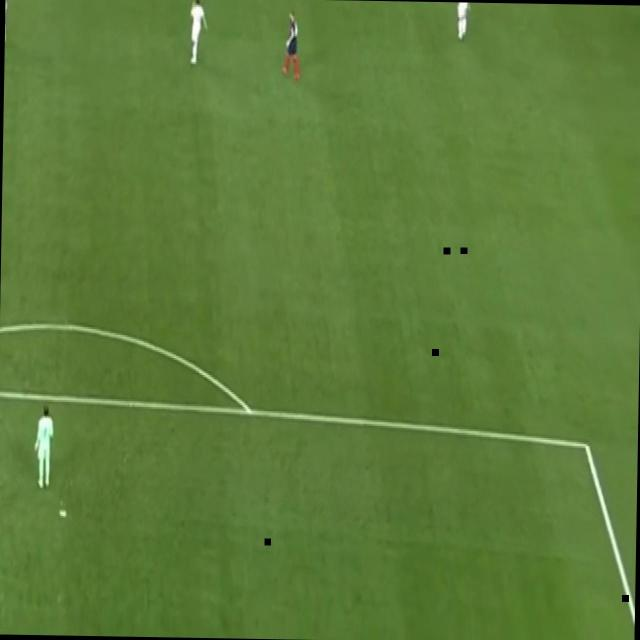player-white: (33, 403, 57, 493), (186, 0, 215, 68), (278, 7, 304, 81), (456, 2, 474, 47), (4, 0, 12, 48)
